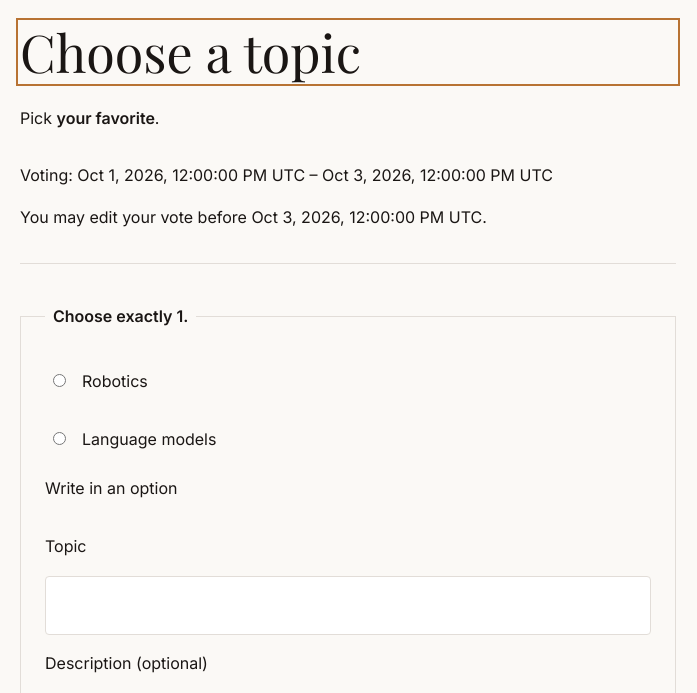
Test: ballots › retries an uncertain submission with the exact same request
Click the radio button labelled "Robotics". click: [60, 381]
box: [53,374,66,387]
(page scrolled)
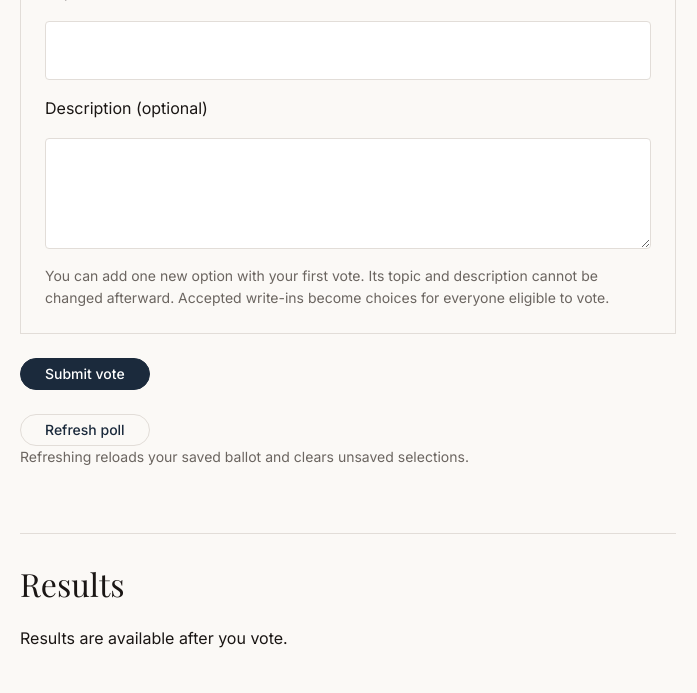
Click the button "Submit vote". click: [85, 374]
box: [20,358,150,390]
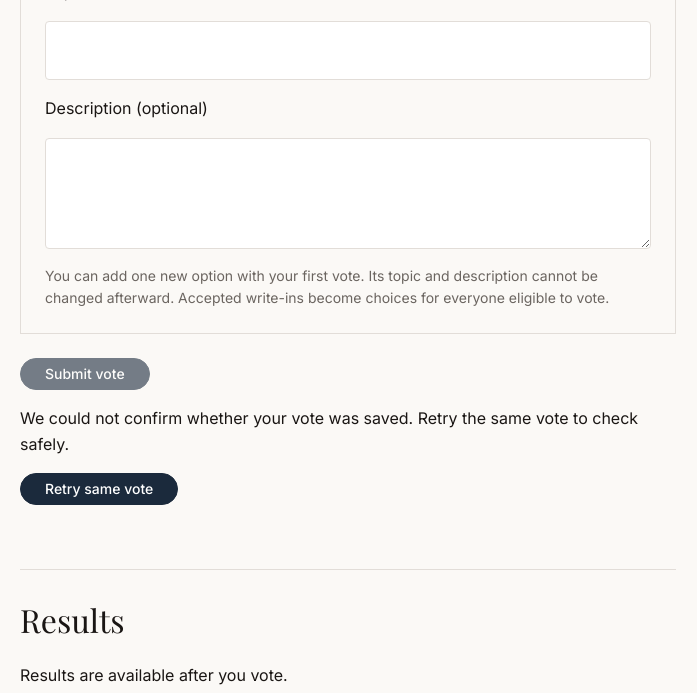
Click the button "Retry same vote". click: [99, 490]
box: [20,474,178,506]
(page scrolled)
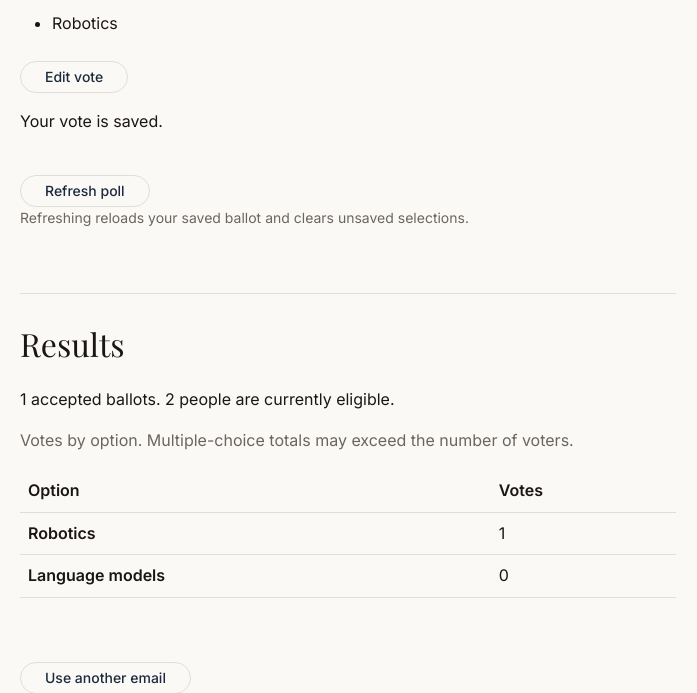
Now the text "Your vote is saved." is shown, box [20,111,163,131]
